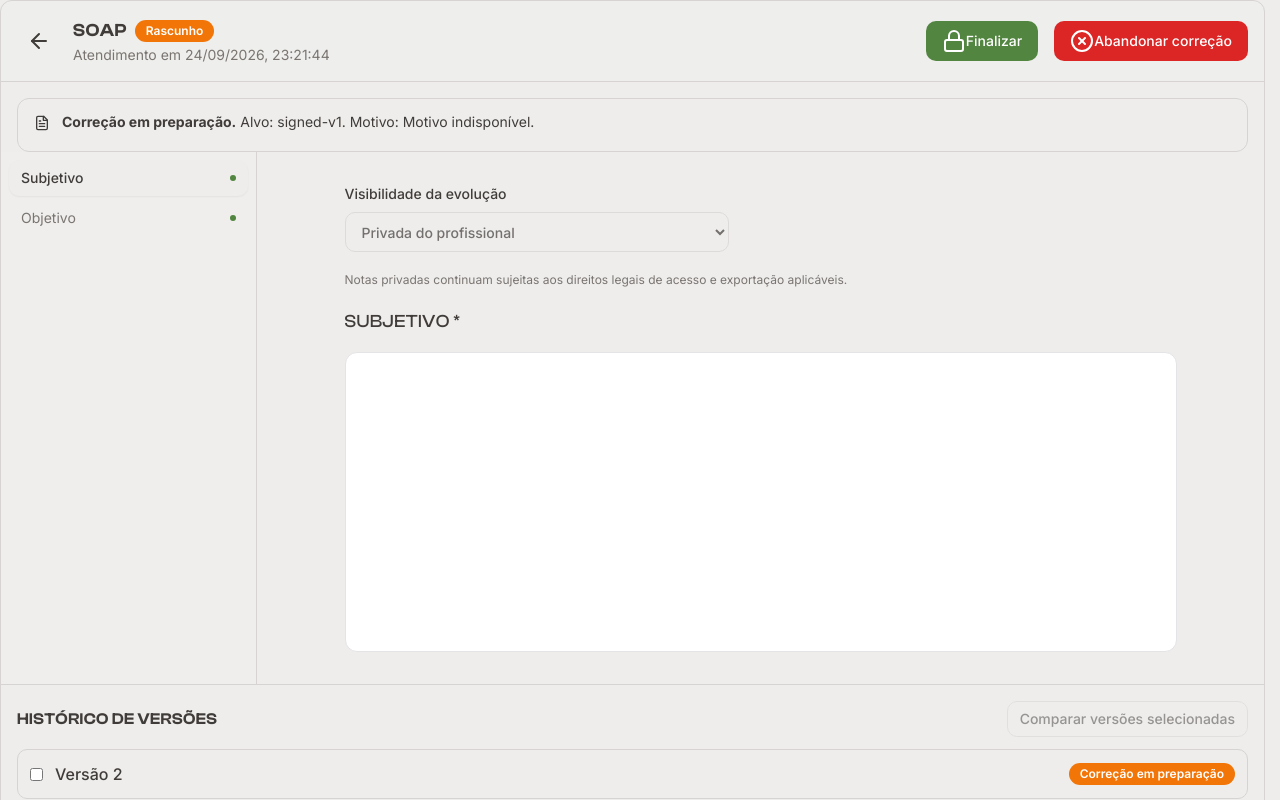
EvolutionEditor › closes and safely returns after successful abandonment even when parent refresh fails
Click the button "Abandonar correção".
click(1151, 41)  # box [1054,21,1248,61]
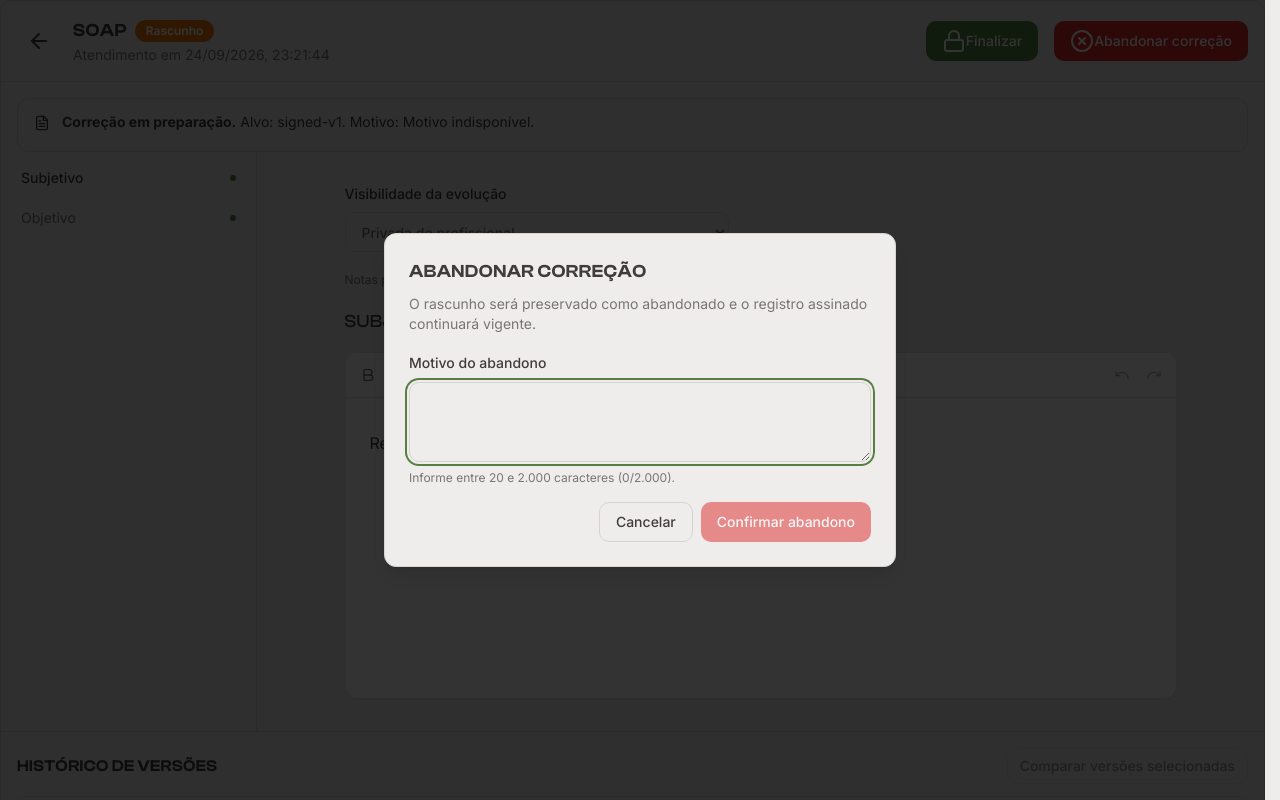
Type "Correção aberta por engano e sem alteração clínica válida." into the text box labelled "Motivo do abandono".
click(640, 422); type("Correção aberta por engano e sem alteração clínica válida.")  # box [409,382,871,462]
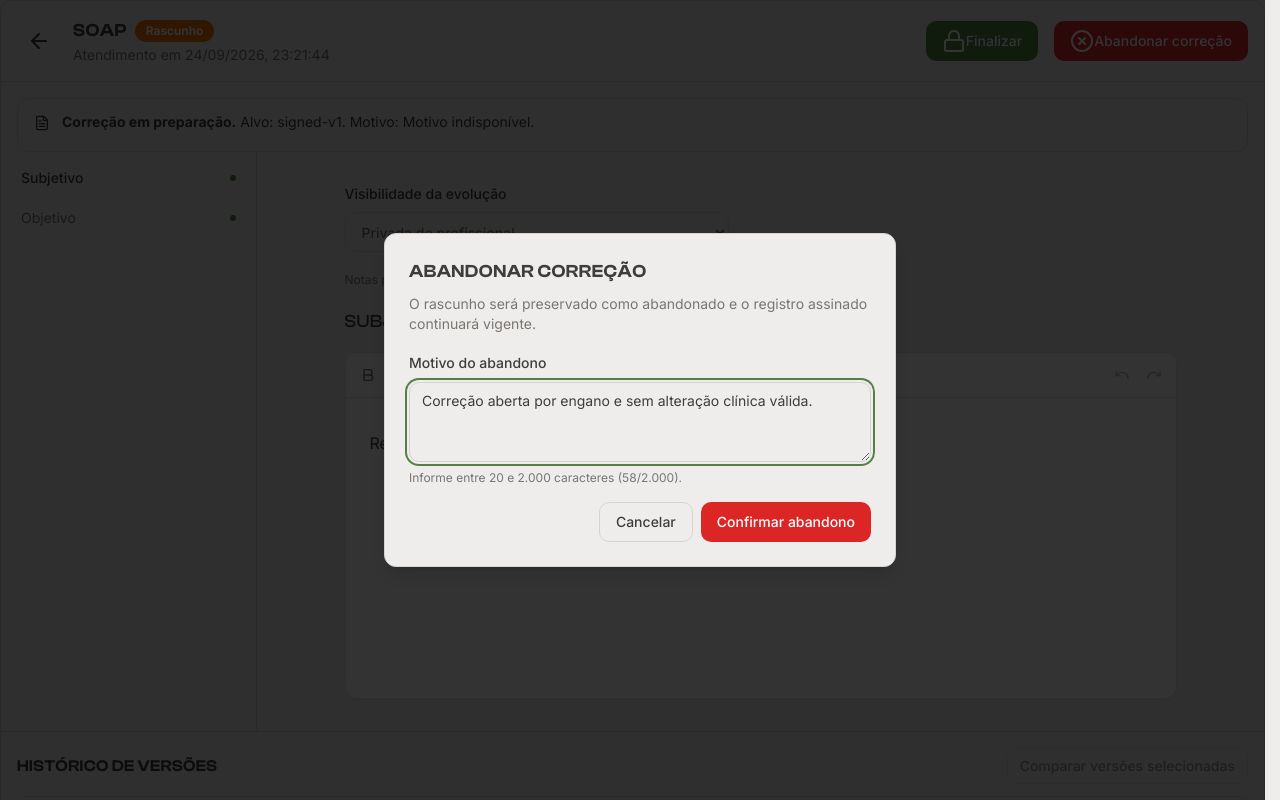
Click the button "Confirmar abandono".
click(786, 522)  # box [701,502,871,542]
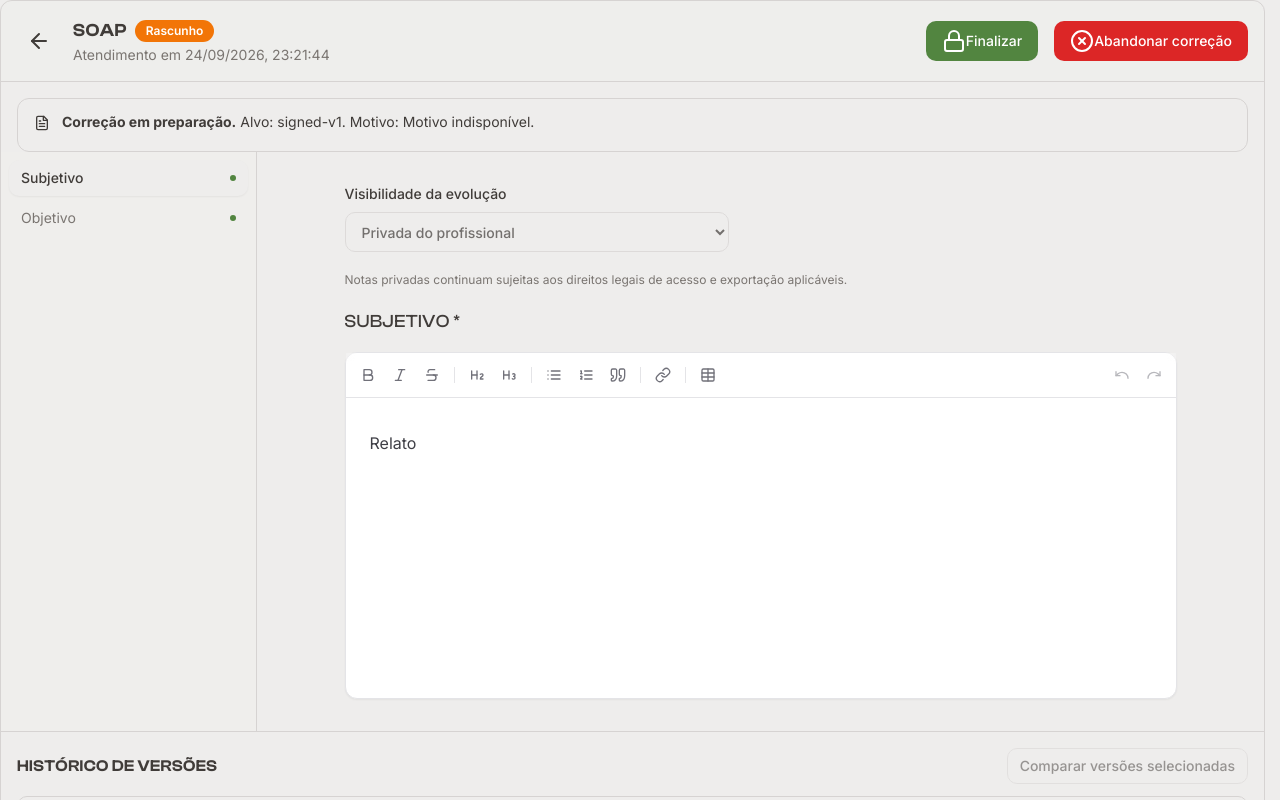
Result: the dialog is gone
